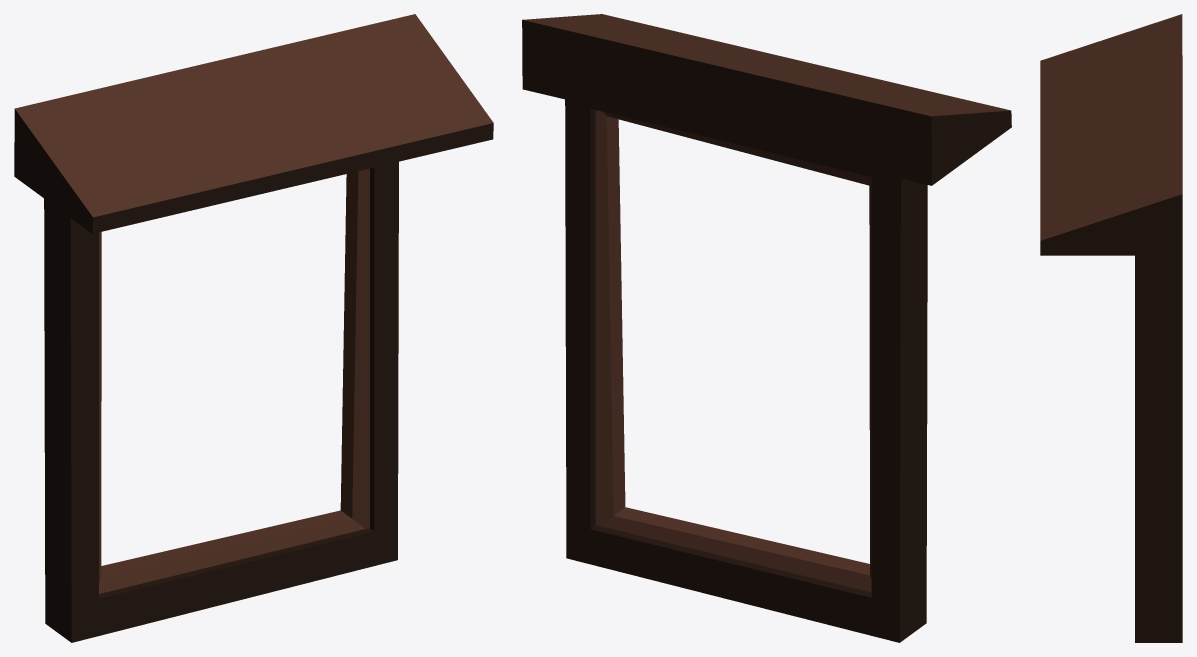
File: Window 1x2 V3 Frame.glb
3 renders of one model, left to right at view 1: azimuth 30°, elevation 25°; view 2: azimuth 150°, elevation 25°; view 3: azimuth 270°, elevation 25°, orthographic. The views are drawn at different scales.
Parts seen in each view (by area): view 1: Window 1x2 V3 Frame; view 2: Window 1x2 V3 Frame; view 3: Window 1x2 V3 Frame.
Part boxes in pixels (bbox=[...]): Window 1x2 V3 Frame: bbox=[14, 14, 493, 642]; Window 1x2 V3 Frame: bbox=[522, 14, 1011, 642]; Window 1x2 V3 Frame: bbox=[1040, 14, 1182, 642].
Bounding box in the file's own units: 1.41 × 1.75 × 0.4769.
Materials: 1 (1 with a texture image).
